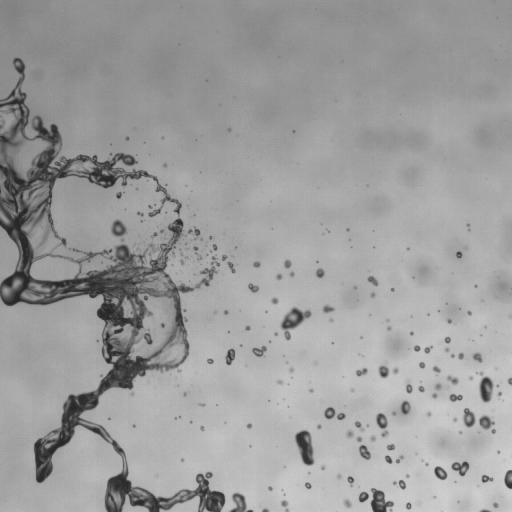droplet: (370, 488, 393, 511), (229, 492, 253, 511), (451, 461, 469, 476), (358, 444, 370, 459), (225, 348, 235, 365), (434, 466, 447, 479), (378, 364, 390, 378), (400, 400, 411, 414), (252, 346, 266, 356), (358, 491, 369, 502), (446, 375, 458, 385), (322, 304, 334, 313), (393, 480, 405, 489), (449, 393, 462, 401), (368, 276, 378, 286), (248, 283, 259, 292), (355, 368, 367, 376), (481, 474, 493, 482), (473, 352, 482, 362), (316, 268, 324, 278), (355, 421, 363, 431), (283, 259, 291, 268), (406, 382, 412, 393), (343, 499, 351, 507), (347, 476, 354, 485), (424, 346, 432, 353), (432, 366, 440, 373), (346, 430, 353, 438), (385, 455, 392, 463), (271, 297, 278, 304), (434, 383, 441, 390), (387, 444, 395, 450), (151, 232, 158, 238), (211, 244, 217, 251), (253, 261, 260, 267), (413, 345, 420, 351), (392, 367, 398, 374), (418, 385, 424, 392), (305, 482, 311, 489), (116, 192, 122, 198), (276, 273, 282, 279), (444, 337, 450, 343), (419, 362, 425, 368), (456, 251, 461, 258), (406, 502, 411, 509), (458, 353, 463, 359), (207, 358, 213, 363), (370, 435, 375, 441), (357, 436, 362, 442), (0, 121, 4, 128), (289, 271, 294, 276), (245, 325, 250, 330), (432, 393, 437, 398), (493, 502, 498, 507), (137, 212, 143, 216), (222, 255, 226, 260), (370, 293, 375, 297), (445, 347, 449, 352), (277, 380, 282, 384), (497, 392, 501, 397), (247, 423, 251, 428), (224, 310, 228, 314), (467, 311, 471, 315), (387, 326, 391, 330), (409, 331, 413, 335), (289, 368, 293, 372), (469, 376, 473, 380), (427, 412, 431, 416), (453, 417, 457, 421), (317, 424, 321, 428), (200, 426, 204, 430), (321, 465, 325, 469), (337, 474, 341, 478), (268, 486, 272, 490), (199, 403, 204, 406), (125, 136, 128, 140), (163, 163, 166, 167), (160, 229, 164, 232), (447, 319, 451, 322), (310, 388, 313, 392), (392, 411, 395, 415), (459, 430, 462, 434), (406, 474, 409, 478), (209, 236, 212, 239), (451, 354, 454, 357), (467, 224, 469, 228), (329, 319, 333, 321), (391, 288, 393, 291), (351, 388, 353, 391), (131, 392, 134, 394), (425, 463, 428, 465), (228, 128, 230, 130), (275, 333, 277, 335)
ligament: (0, 58, 221, 511), (280, 306, 311, 340), (462, 408, 495, 433), (294, 430, 314, 465), (476, 371, 493, 402), (376, 413, 388, 437), (324, 407, 345, 419), (193, 245, 202, 261), (504, 470, 511, 489), (179, 250, 187, 264), (281, 500, 289, 511), (227, 262, 235, 272), (396, 455, 403, 463), (70, 248, 81, 252), (507, 377, 511, 385), (261, 508, 269, 511), (479, 509, 490, 511)
